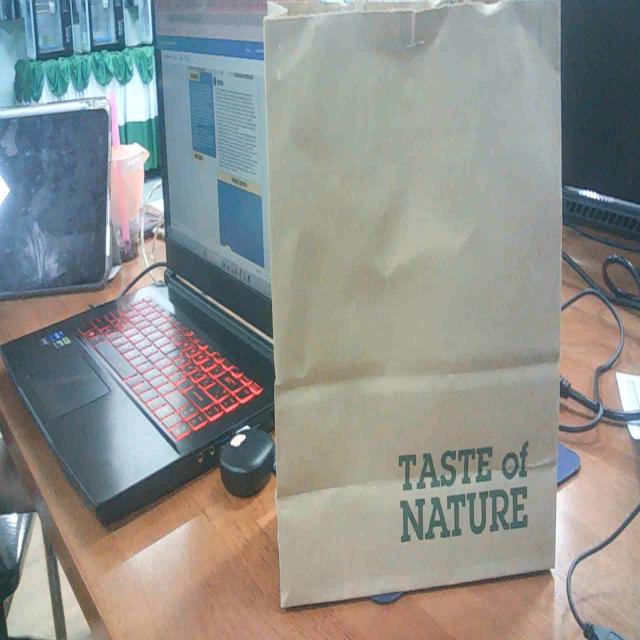bag: (249, 0, 578, 598)
